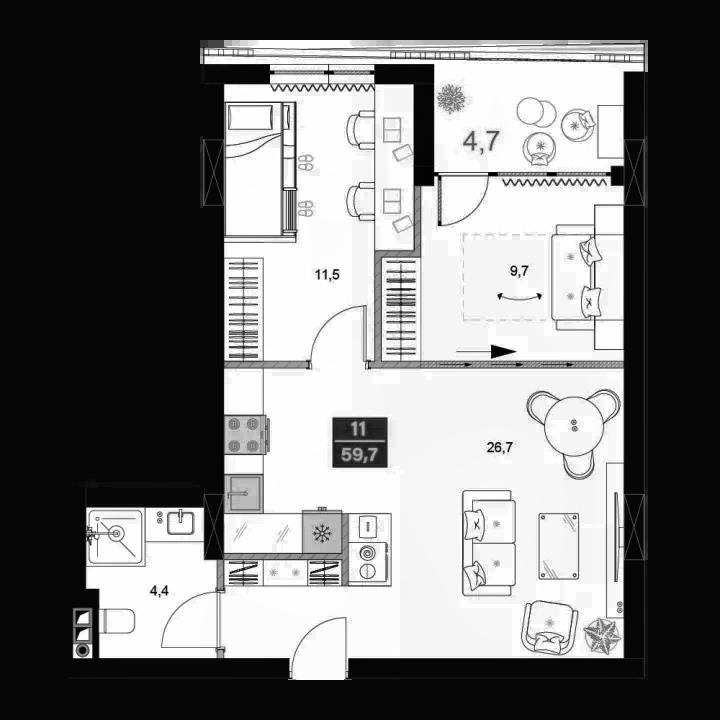door: (303, 301, 371, 372), (158, 585, 227, 652), (287, 612, 350, 683), (436, 168, 491, 228)
window: (270, 64, 328, 80), (330, 63, 373, 79), (494, 168, 552, 179), (553, 169, 610, 179)
